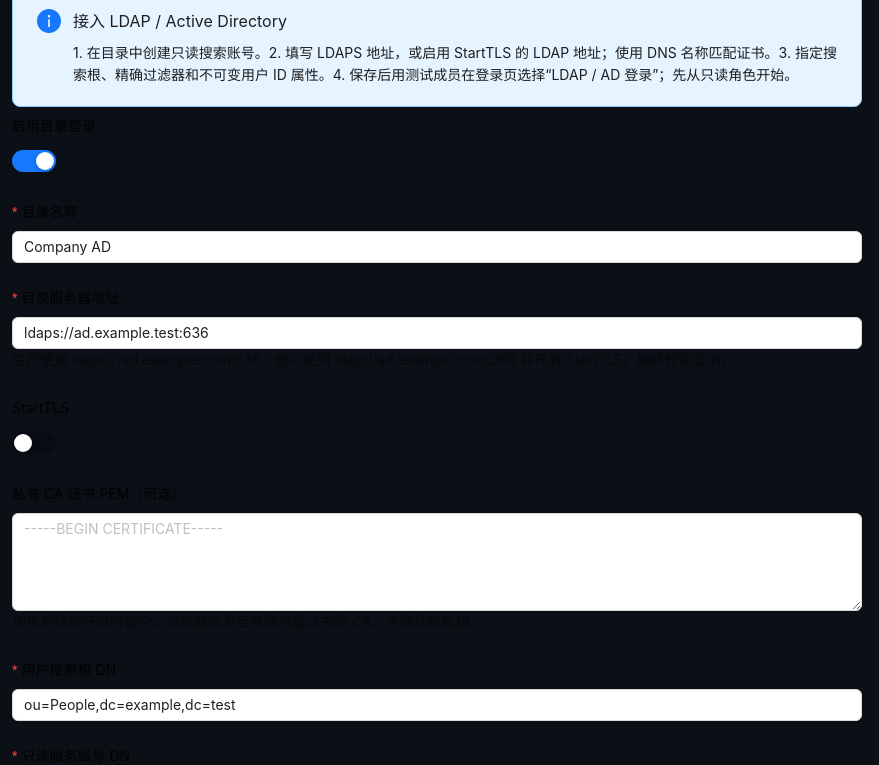
Test: uses the loaded revision and retains the edited directory on a conflict
The image size is (879, 765).
Replace the text in the field labelled "目录名称" with "Renamed directory" at (437, 247), box [12,231,862,263]
(page scrolled)
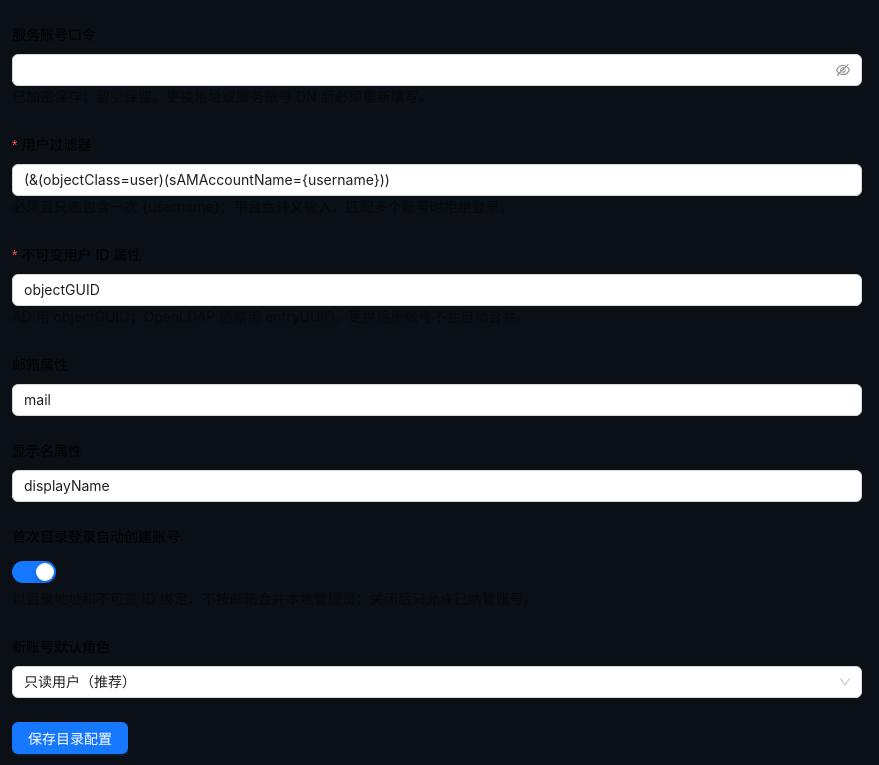
Click the button "保存目录配置".
click(70, 738)  # box [12,722,128,754]
(page scrolled)
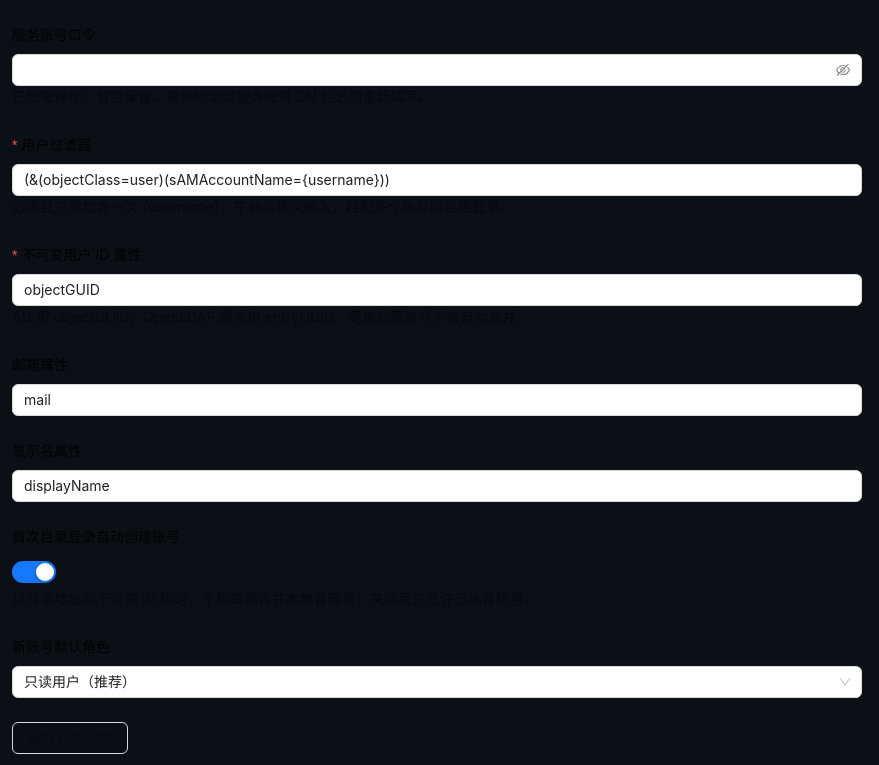
Now the button "保存目录配置" is disabled, box [12,722,128,754]
